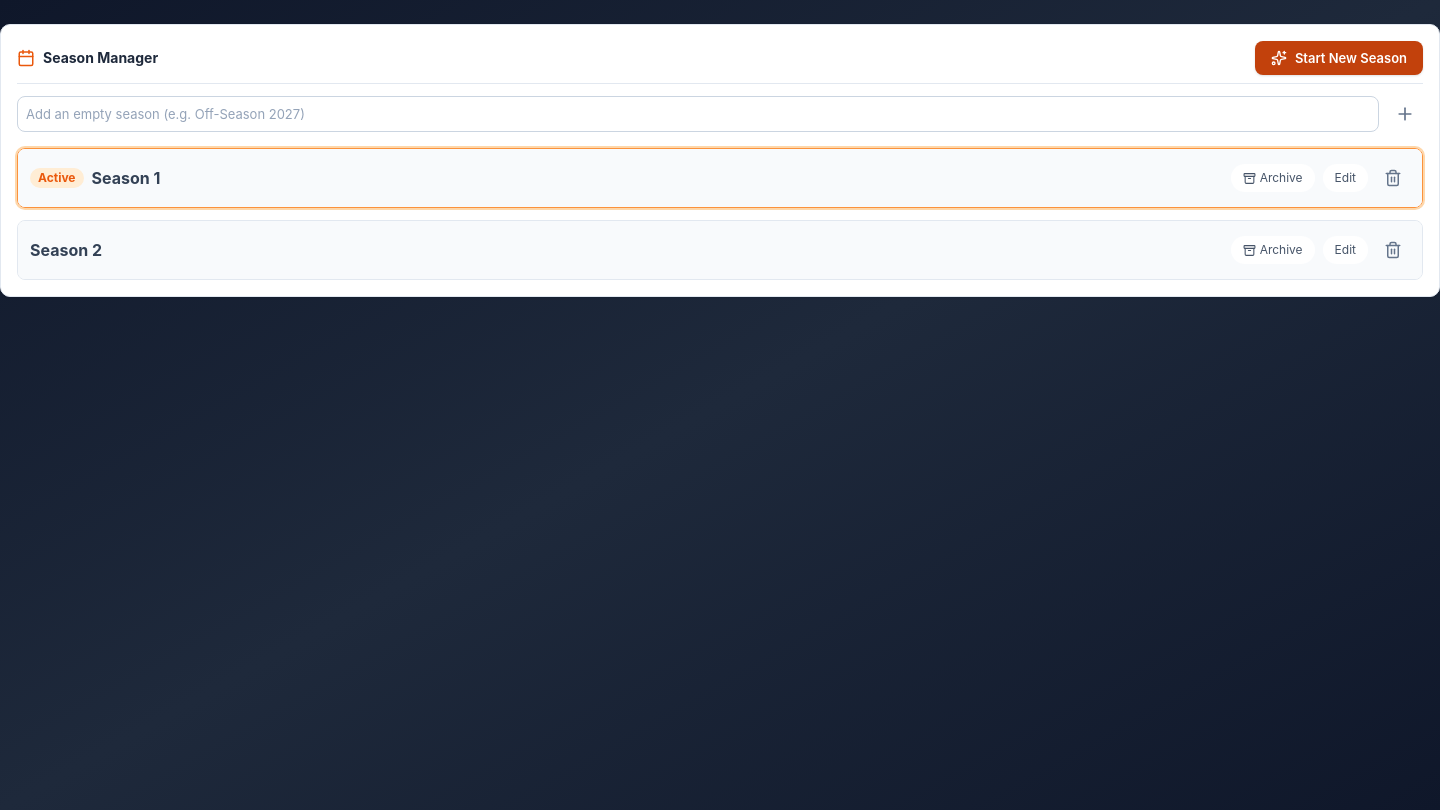
Test: SeasonManager › The new-season wizard › names the sub-teams that will be copied, and says members are not
Click the button with test id "start-new-season": (1339, 58) [1255,41,1423,75]
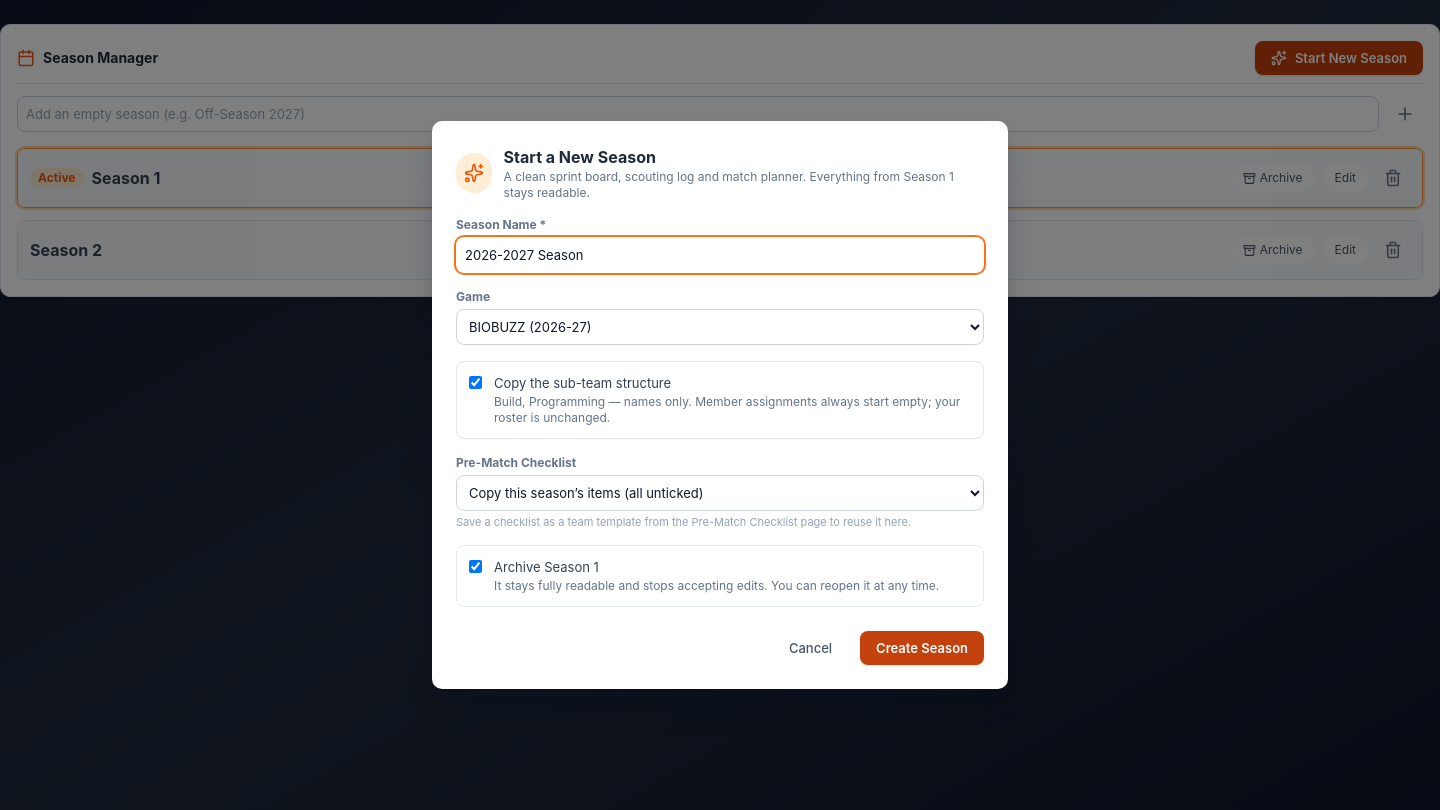
Check: the text "Build, Programming" is shown, box [494,394,695,409]
Check: the text "Member assignments always start empty" is shown, box [494,394,960,425]
